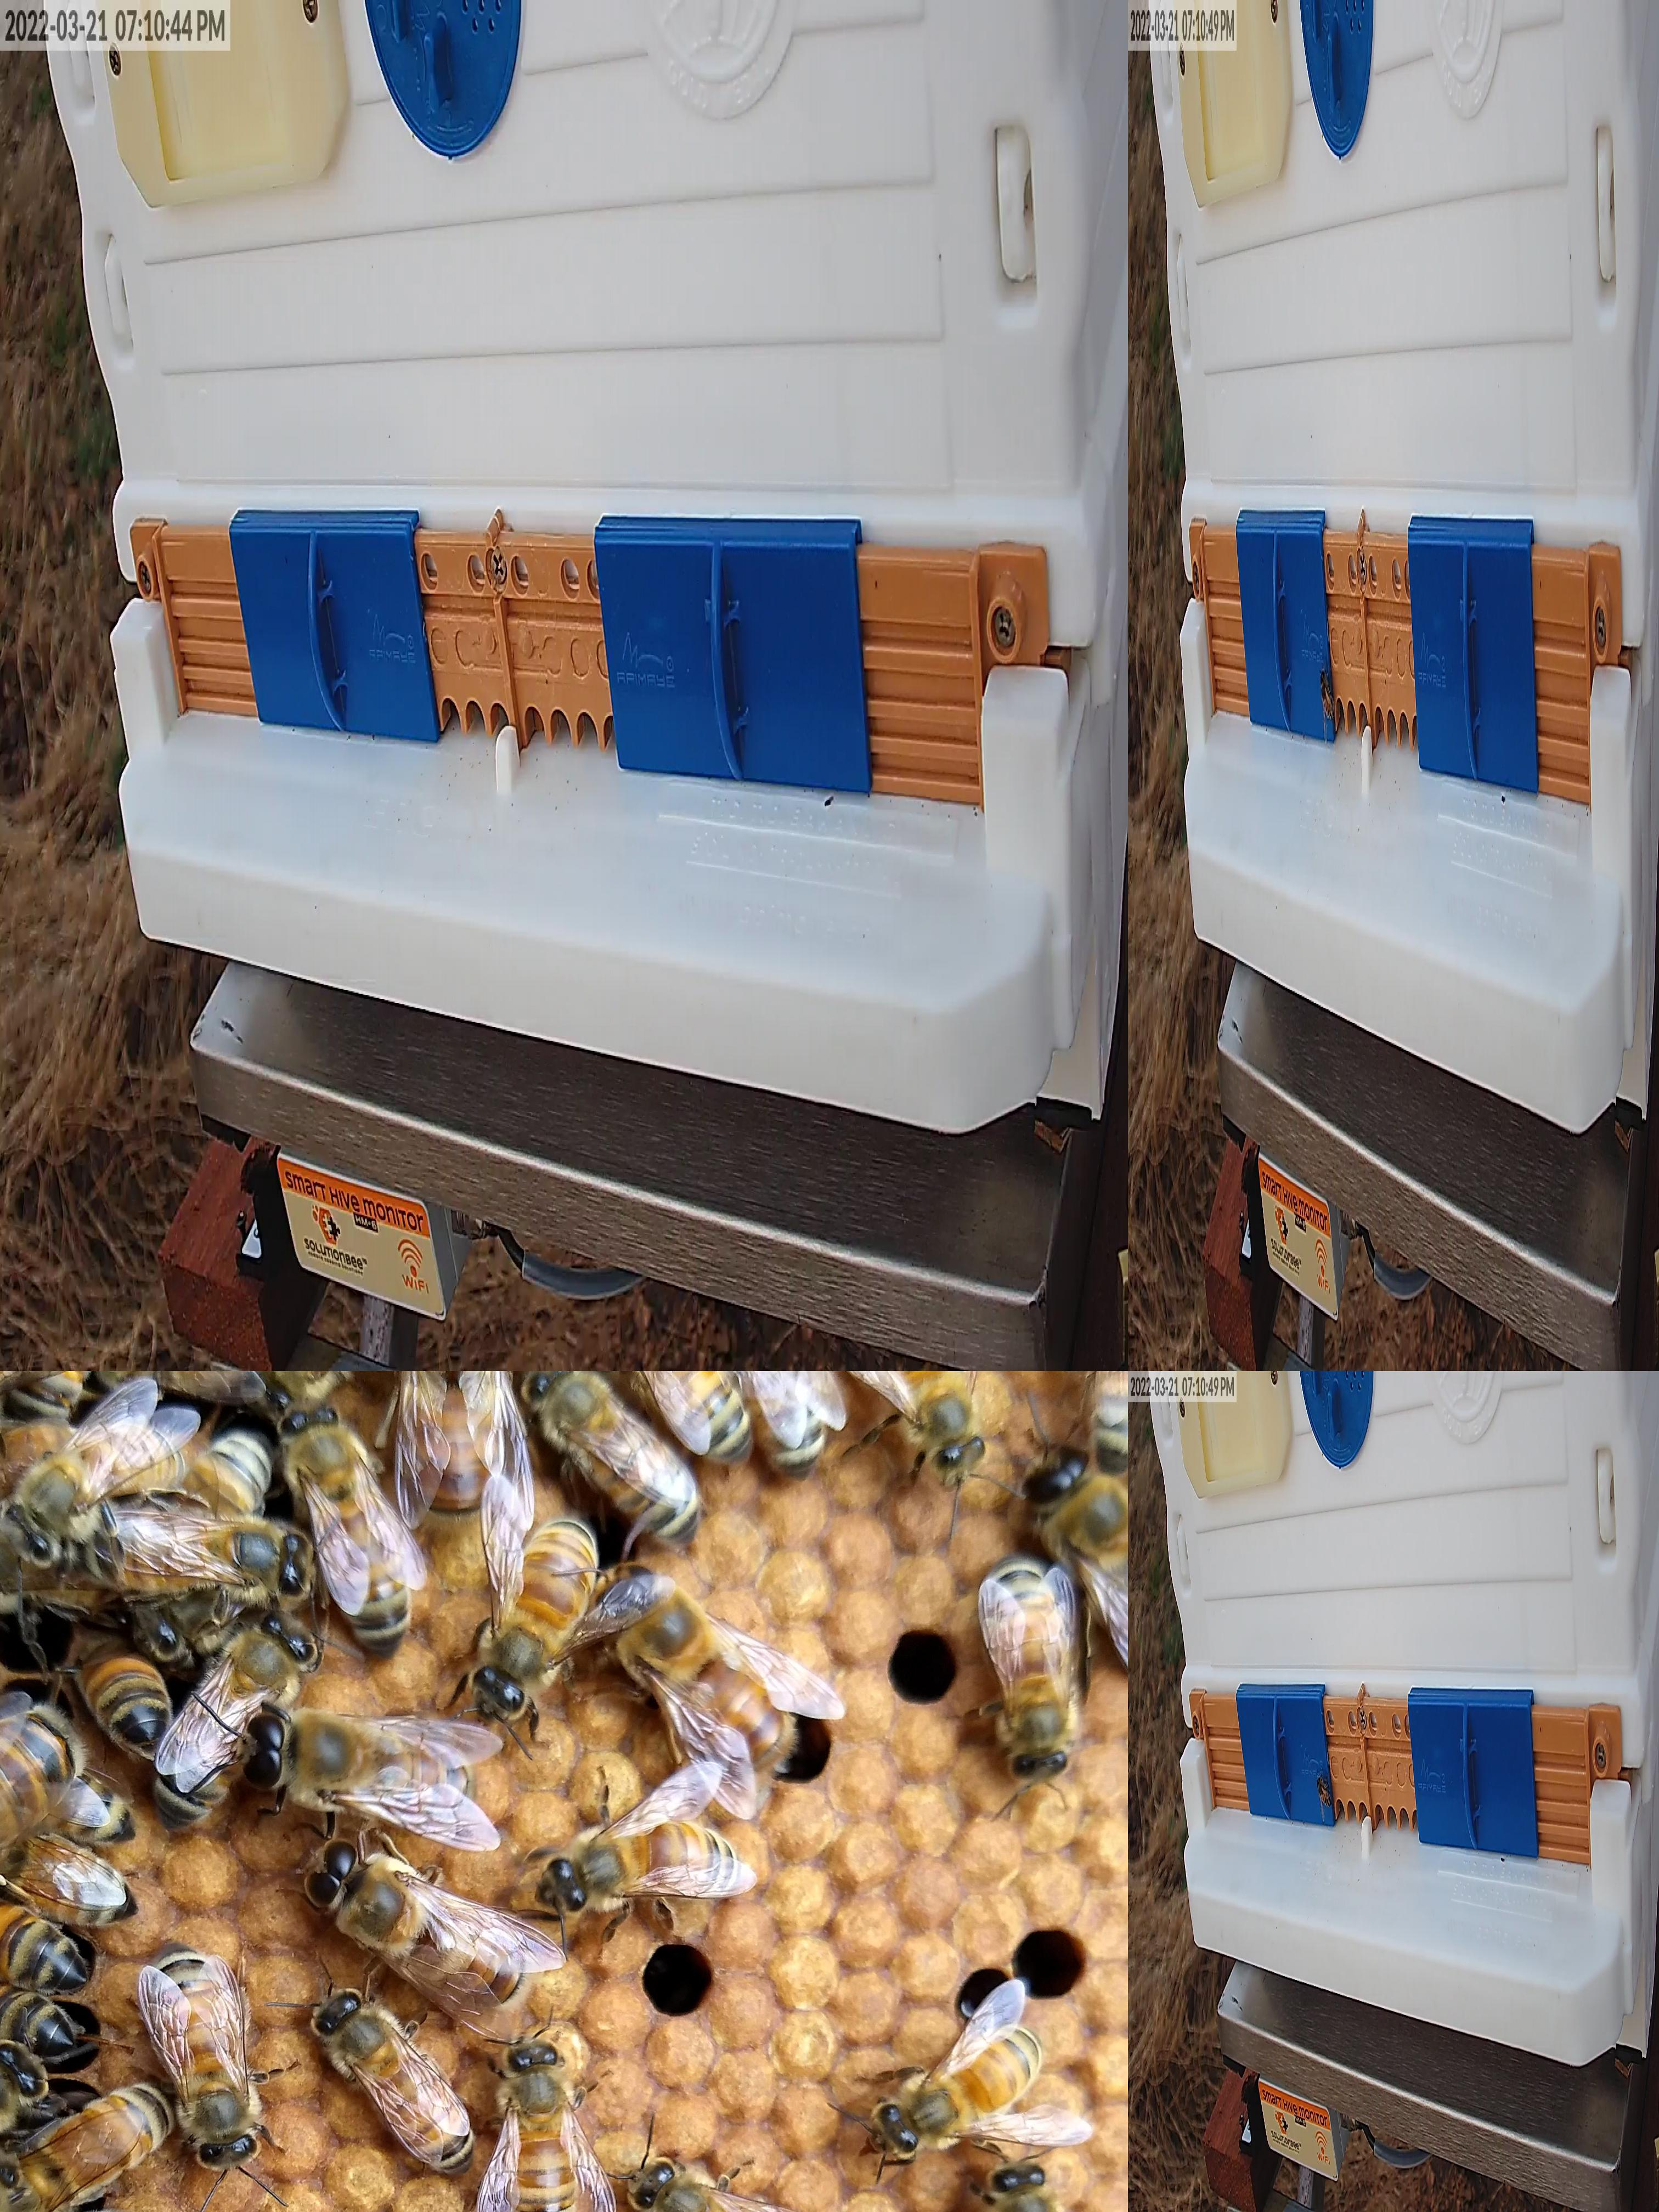bee: (281, 1409, 413, 1655), (160, 1616, 307, 1827), (310, 1993, 476, 2170), (525, 1371, 697, 1536), (141, 1947, 260, 2170), (476, 1517, 596, 1716), (0, 2085, 179, 2212), (7, 1428, 185, 1555), (985, 1561, 1075, 1780), (877, 2027, 1039, 2149), (544, 1822, 739, 1909), (91, 1521, 310, 1595), (160, 1430, 275, 1566), (598, 1371, 753, 1460), (0, 1827, 139, 1925), (498, 2045, 579, 2212), (704, 1371, 824, 1479), (856, 1371, 986, 1470), (80, 1623, 171, 1750), (146, 1557, 268, 1646), (19, 1763, 134, 1843), (636, 2165, 814, 2212), (0, 1898, 87, 1993), (0, 1418, 75, 1522), (256, 1371, 411, 1409), (0, 1986, 73, 2060), (992, 2163, 1075, 2212), (1087, 1371, 1127, 1470), (84, 1371, 251, 1393), (1321, 671, 1335, 721), (1317, 1775, 1331, 1808)
drone: (603, 1564, 786, 1773), (310, 1843, 523, 2005), (247, 1710, 474, 1813), (1026, 1446, 1127, 1670), (0, 1709, 73, 1897), (406, 1371, 504, 1512)
